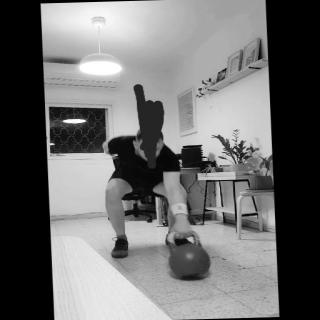kettlebell: (159, 223, 223, 282)
